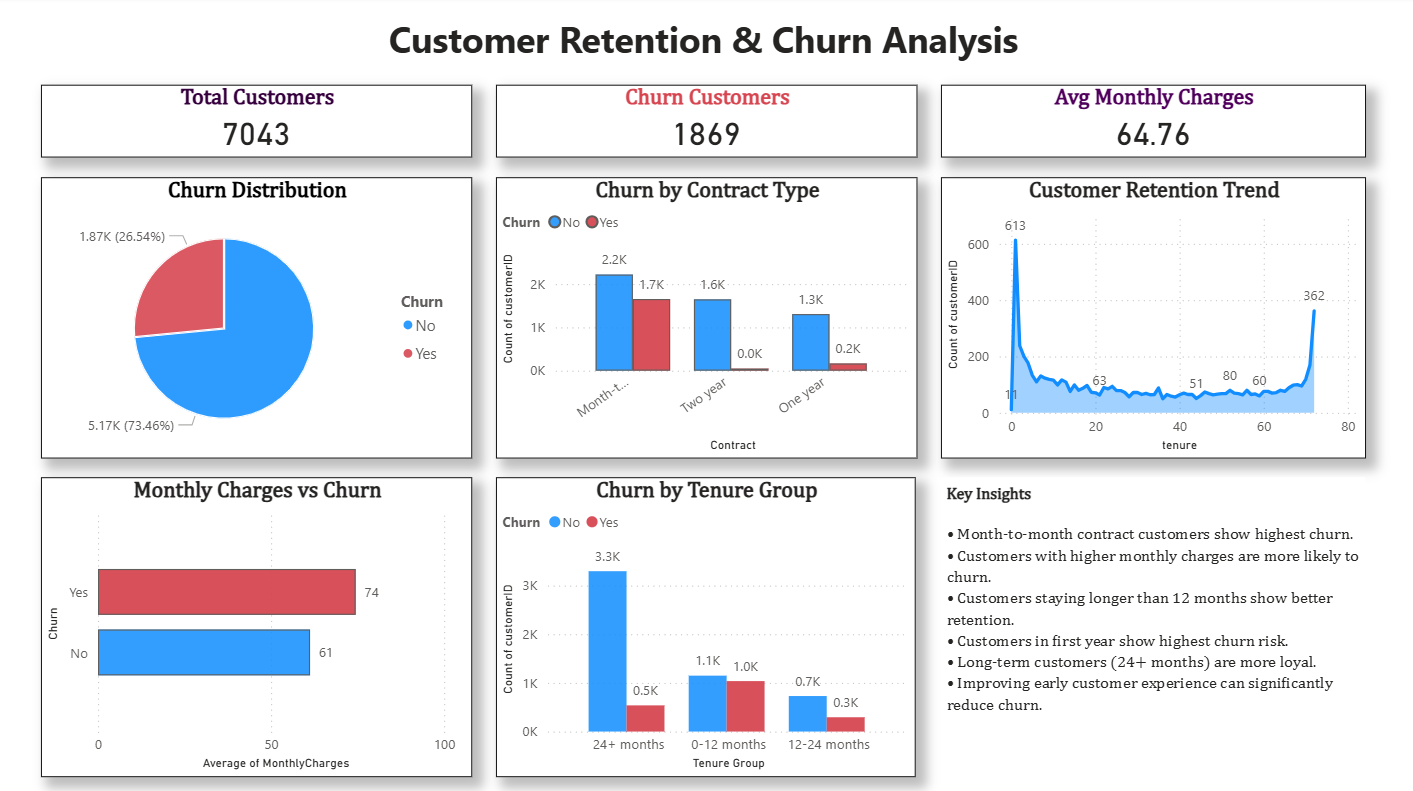

This screenshot's page, from the dashboard's own definition file:
{"tool":"powerbi","page":{"name":"Page 1","canvas":[1280,720],"ordinal":0},"visuals":[{"type":"card","title":"Total Customers","fields":{"Values":["Count(customer_churn csv.customerID)"]},"box":[40.6,80,388.9,65.4],"z":0},{"type":"card","title":"Churn Customers","fields":{"Values":["Count(customer_churn csv.customerID)"]},"box":[450.8,80,379.8,65.4],"z":1000},{"type":"card","title":"Avg Monthly Charges","fields":{"Values":["Avg(customer_churn csv.MonthlyCharges)"]},"box":[852.1,80,383.2,65.4],"z":2000},{"type":"pieChart","title":"Churn Distribution","fields":{"Category":["customer_churn csv.Churn"],"Y":["CountNonNull(customer_churn csv.customerID)"]},"box":[40.6,163.4,388.9,253.6],"z":3000},{"type":"clusteredColumnChart","title":"Churn by Contract Type","fields":{"Category":["customer_churn csv.Contract"],"Y":["CountNonNull(customer_churn csv.customerID)"],"Series":["customer_churn csv.Churn"]},"box":[450.8,163.4,379.8,253.6],"z":4000},{"type":"lineChart","title":"Customer Retention Trend","fields":{"Category":["customer_churn csv.tenure"],"Y":["CountNonNull(customer_churn csv.customerID)"]},"box":[852.1,163.4,383.2,253.6],"z":5000},{"type":"clusteredBarChart","title":"Monthly Charges vs Churn","fields":{"Category":["customer_churn csv.Churn"],"Y":["Avg(customer_churn csv.MonthlyCharges)"]},"box":[40.4,434.1,388.9,270.2],"z":6000},{"type":"textbox","box":[40.4,12.2,1194.7,52.6],"z":7000},{"type":"textbox","box":[852.3,434.1,382.7,270.2],"z":8000},{"type":"clusteredColumnChart","title":"Churn by Tenure Group","fields":{"Category":["customer_churn csv.Tenure Group"],"Y":["CountNonNull(customer_churn csv.customerID)"],"Series":["customer_churn csv.Churn"]},"box":[450.8,433.9,378.7,270.5],"z":9000}]}

Visuals, with their boxes in screenshot pixels (x1, y1, x2, y2), scaled from the page's 1280x720 canvas onto the 1413x791 screenshot:
"Total Customers" card: <bbox>45, 88, 474, 160</bbox>
"Churn Customers" card: <bbox>498, 88, 917, 160</bbox>
"Avg Monthly Charges" card: <bbox>941, 88, 1364, 160</bbox>
"Churn Distribution" pieChart: <bbox>45, 180, 474, 458</bbox>
"Churn by Contract Type" clusteredColumnChart: <bbox>498, 180, 917, 458</bbox>
"Customer Retention Trend" lineChart: <bbox>941, 180, 1364, 458</bbox>
"Monthly Charges vs Churn" clusteredBarChart: <bbox>45, 477, 474, 774</bbox>
textbox: <bbox>45, 13, 1363, 71</bbox>
textbox: <bbox>941, 477, 1363, 774</bbox>
"Churn by Tenure Group" clusteredColumnChart: <bbox>498, 477, 916, 774</bbox>
